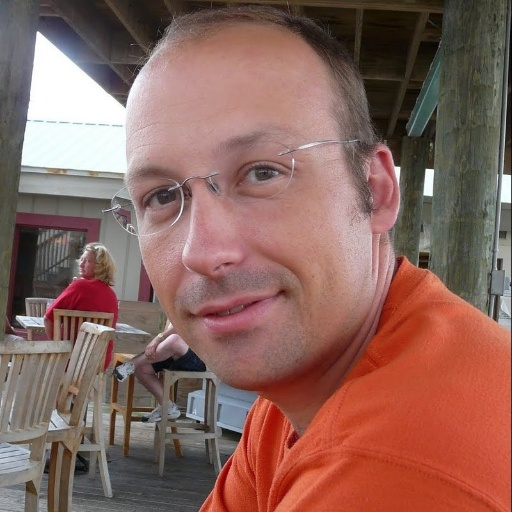hand: (143, 337, 159, 362)
